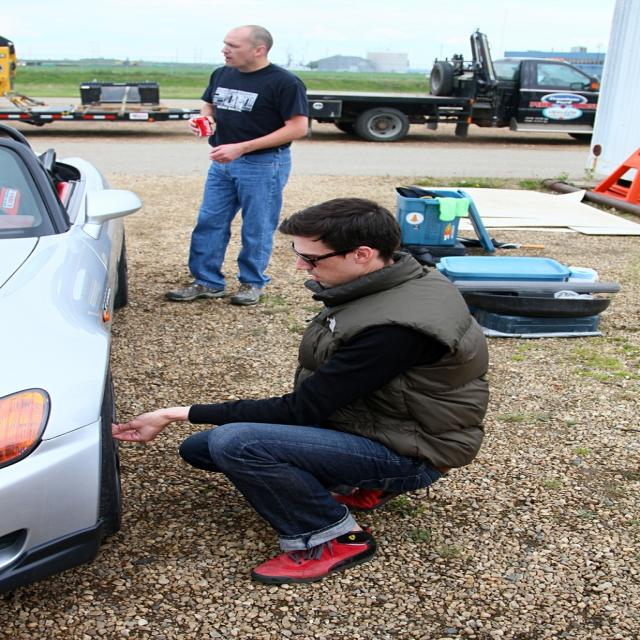car: (7, 111, 138, 608)
